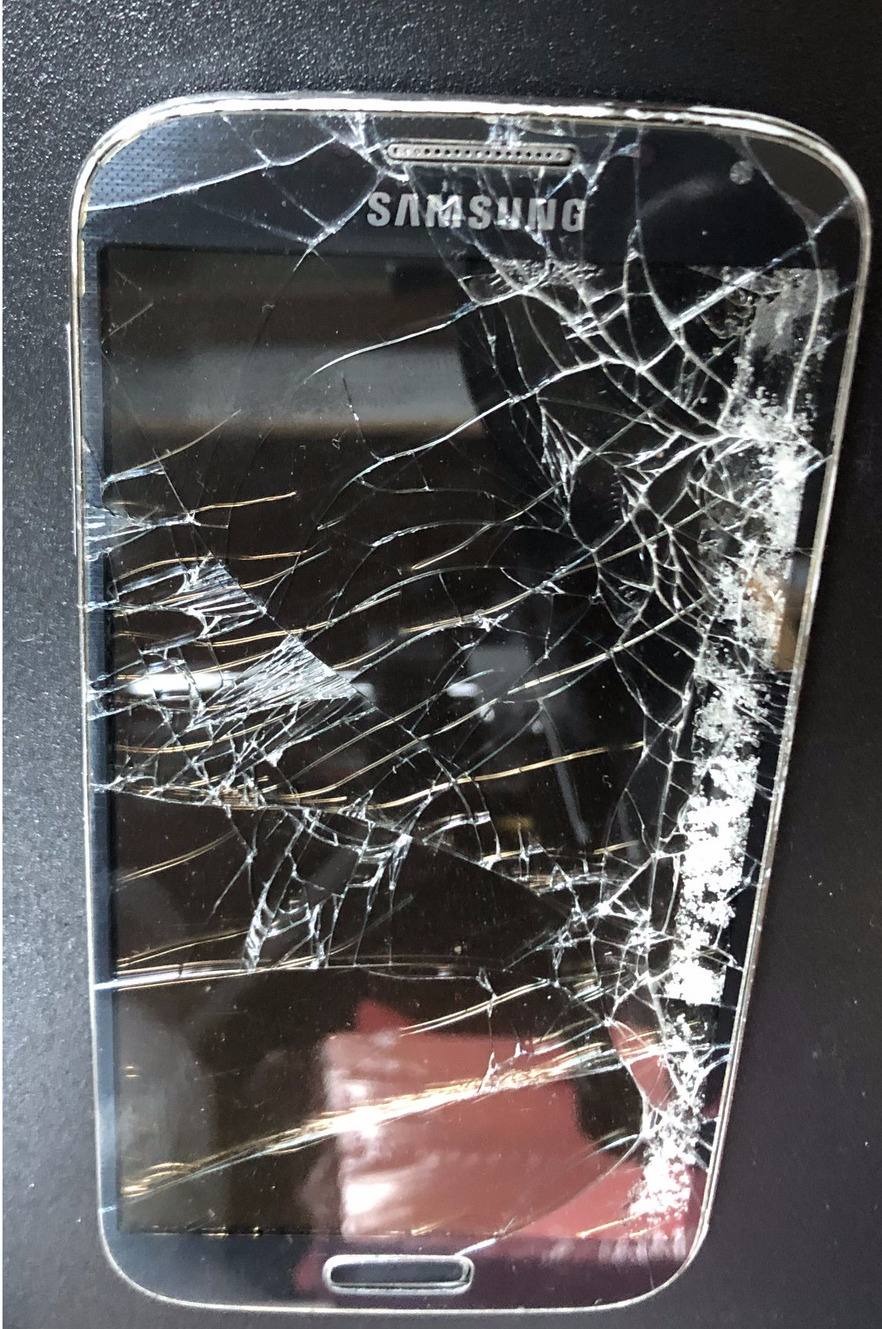Crack: (81, 71, 882, 940), (114, 951, 730, 1254)
